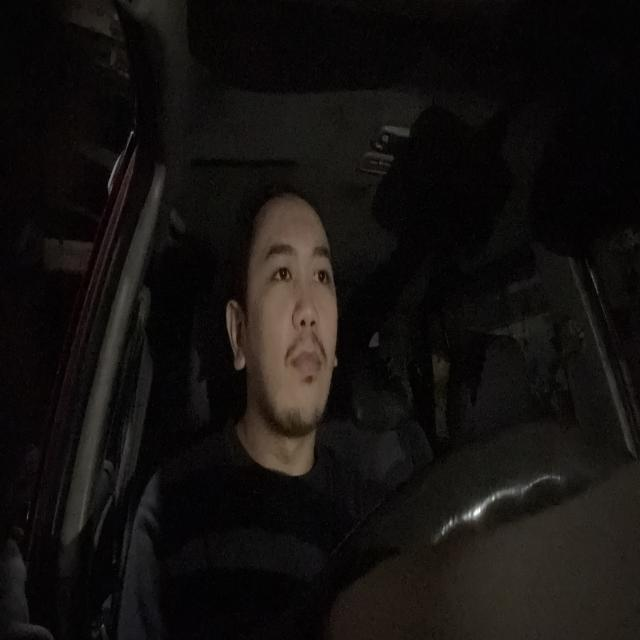open: (261, 240, 300, 294), (309, 239, 332, 301)
